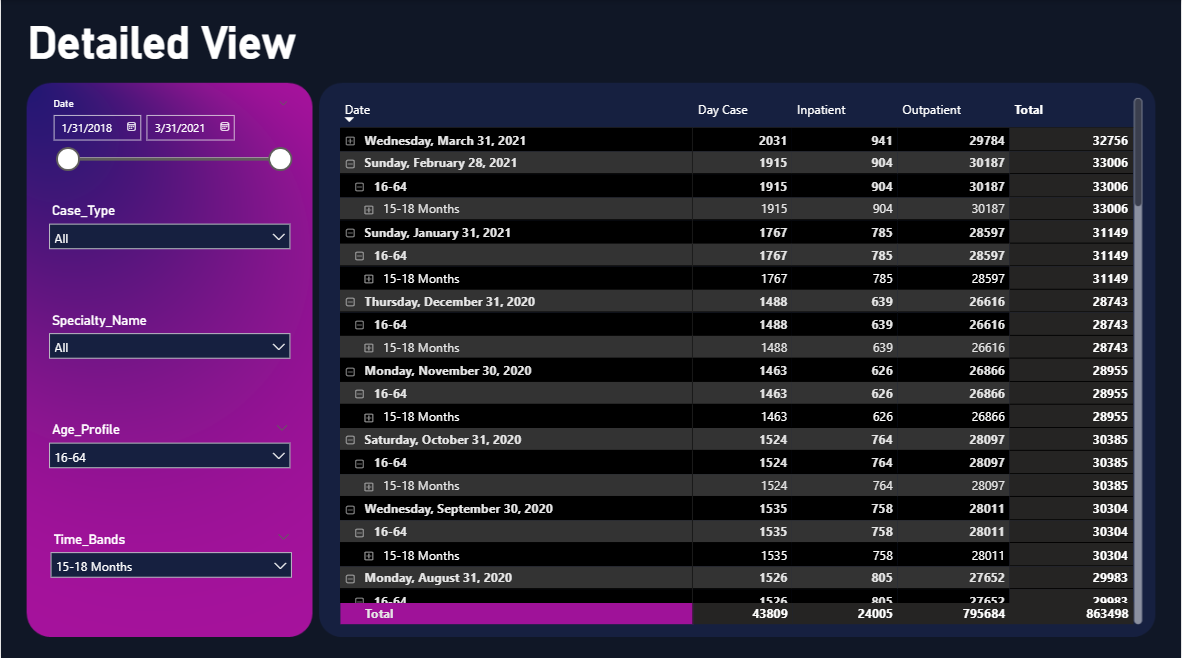

This screenshot's page, from the dashboard's own definition file:
{"tool":"powerbi","page":{"name":"Detail","canvas":[1280,720],"ordinal":1},"visuals":[{"type":"slicer","fields":{"Values":["All_Data.DateNew"]},"box":[43.9,100.8,279.8,100.8],"z":0},{"type":"textbox","box":[24.4,13,434.3,66.7],"z":1000},{"type":"slicer","fields":{"Values":["All_Data.Case_Type"]},"box":[42.3,214.7,281.5,118.7],"z":2000},{"type":"slicer","fields":{"Values":["All_Data.Specialty_Name"]},"box":[42.3,333.4,281.5,100.8],"z":3000},{"type":"pivotTable","fields":{"Rows":["All_Data.DateNew","All_Data.Age_Profile","All_Data.Time_Bands","All_Data.Specialty_Name"],"Columns":["All_Data.Case_Type"],"Values":["Sum(All_Data.Total)"]},"box":[362.7,100.8,880,580.7],"z":4000},{"type":"slicer","fields":{"Values":["All_Data.Age_Profile"]},"box":[42.3,452.2,281.5,118.7],"z":5000},{"type":"slicer","fields":{"Values":["All_Data.Time_Bands"]},"box":[43.8,570.9,281.5,110.6],"z":6000}]}

Visuals, with their boxes in screenshot pixels (x1, y1, x2, y2), scaled from the page's 1280x720 canvas onto the 1182x658 screenshot:
slicer - All_Data.DateNew: (x1=41, y1=92, x2=299, y2=184)
textbox: (x1=23, y1=12, x2=424, y2=73)
slicer - All_Data.Case_Type: (x1=39, y1=196, x2=299, y2=305)
slicer - All_Data.Specialty_Name: (x1=39, y1=305, x2=299, y2=397)
pivotTable - All_Data.DateNew x All_Data.Age_Profile: (x1=335, y1=92, x2=1148, y2=623)
slicer - All_Data.Age_Profile: (x1=39, y1=413, x2=299, y2=522)
slicer - All_Data.Time_Bands: (x1=40, y1=522, x2=300, y2=623)
